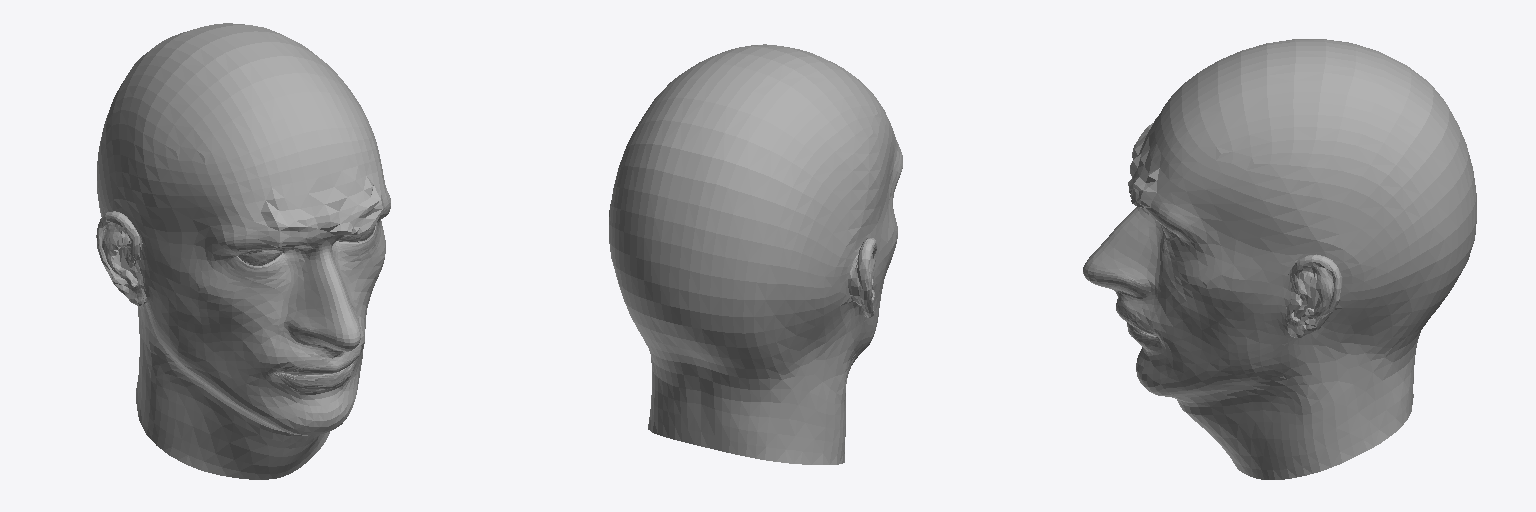
Rendered from MaleFaced32.obj.
3 views of the same model, side by side, from view 1: azimuth 30°, elevation 25°; view 2: azimuth 150°, elevation 25°; view 3: azimuth 270°, elevation 25° (orthographic).
Parts seen in each view (by area): view 1: HeadHires; view 2: HeadHires; view 3: HeadHires.
Boxes of the visible parts, <box> form: HeadHires: <box>96,23,390,479</box>; HeadHires: <box>609,44,902,464</box>; HeadHires: <box>1083,39,1476,479</box>.
Size of the model in its own units: 188 by 283 by 246.